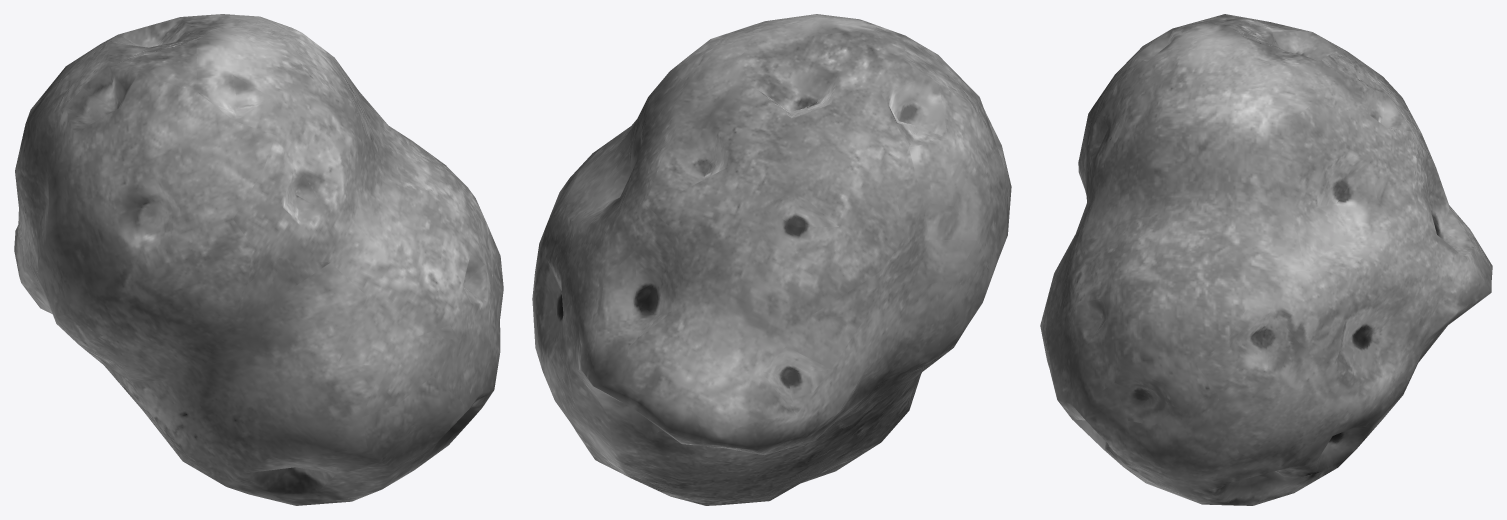
File: rock_01.glb
3 renders of one model, left to right at view 1: azimuth 30°, elevation 25°; view 2: azimuth 150°, elevation 25°; view 3: azimuth 270°, elevation 25°, orthographic. The views are drawn at different scales.
Parts seen in each view (by area): view 1: rock_01; view 2: rock_01; view 3: rock_01.
Part boxes in pixels (x1,y1,x2,y2): rock_01: [14, 14, 503, 505]; rock_01: [532, 14, 1011, 505]; rock_01: [1040, 14, 1492, 505].
Bounding box in the file's own units: 1.64 × 1.73 × 1.75.
1 material, 1 textured.
